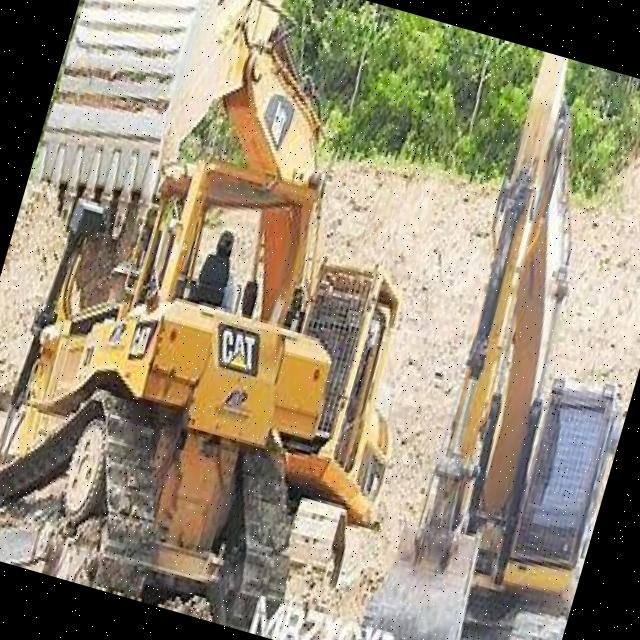Bulldozer: (0, 72, 415, 640)
